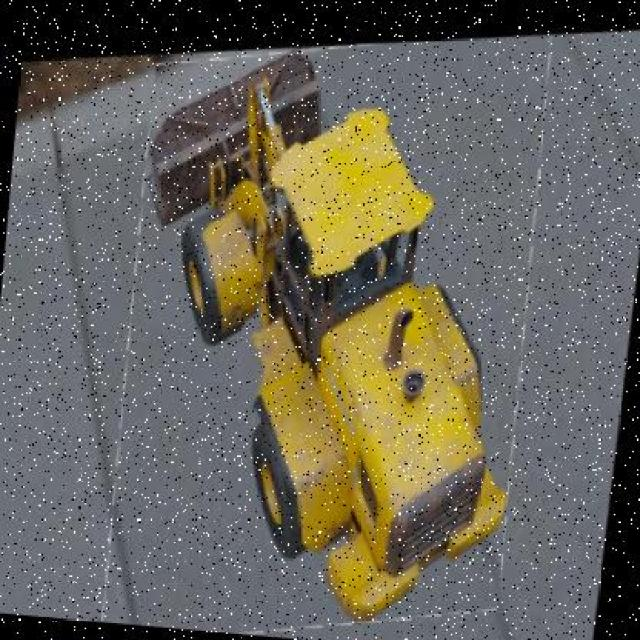buldozerpayloadergrader: (106, 53, 545, 633)
